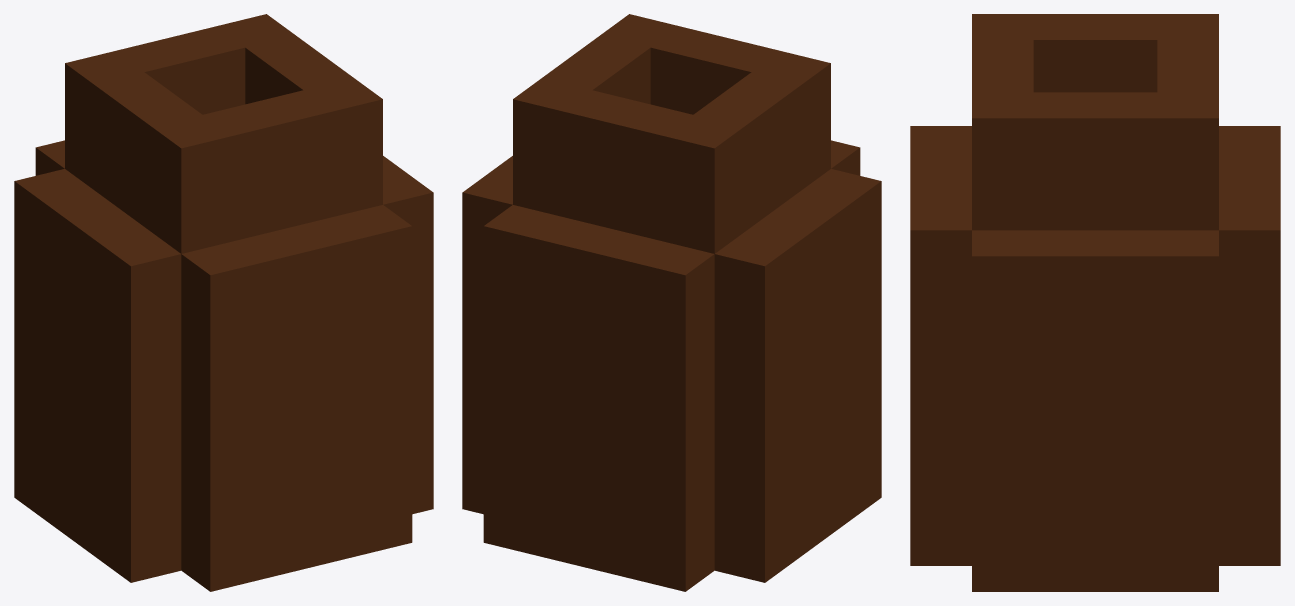
The model's file is GORSHOK.obj.
3 views of the same model, side by side, from view 1: azimuth 30°, elevation 25°; view 2: azimuth 150°, elevation 25°; view 3: azimuth 270°, elevation 25° (orthographic). The views are drawn at different scales.
Parts seen in each view (by area): view 1: GORSHOK; view 2: GORSHOK; view 3: GORSHOK.
Part boxes in pixels (left/top/right/bottom): GORSHOK: left=14, top=14, right=433, bottom=591; GORSHOK: left=462, top=14, right=881, bottom=591; GORSHOK: left=910, top=14, right=1280, bottom=591.
Bounding box in the file's own units: 0.6 × 0.8 × 0.6.
Materials: 1 (1 with a texture image).
